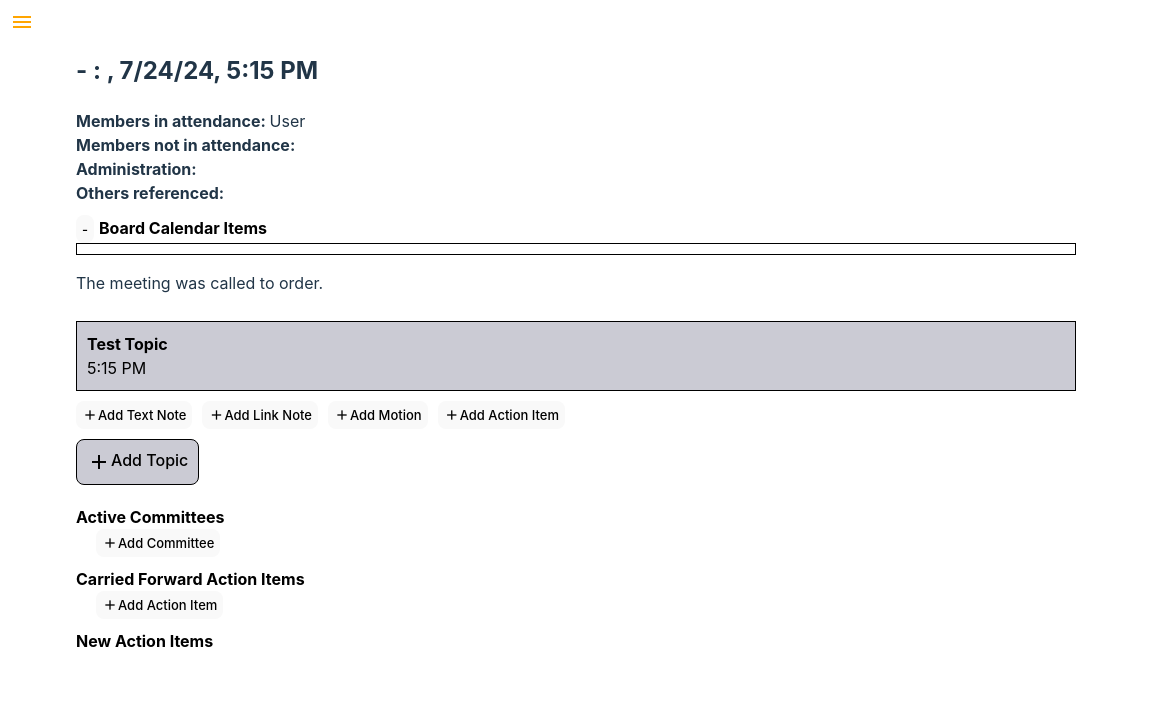
Test: action items › allows cancelling the new action item
The width and height of the screenshot is (1152, 720).
Click the 1st button "Add Action Item".
click(501, 415)  # box [438,401,565,429]
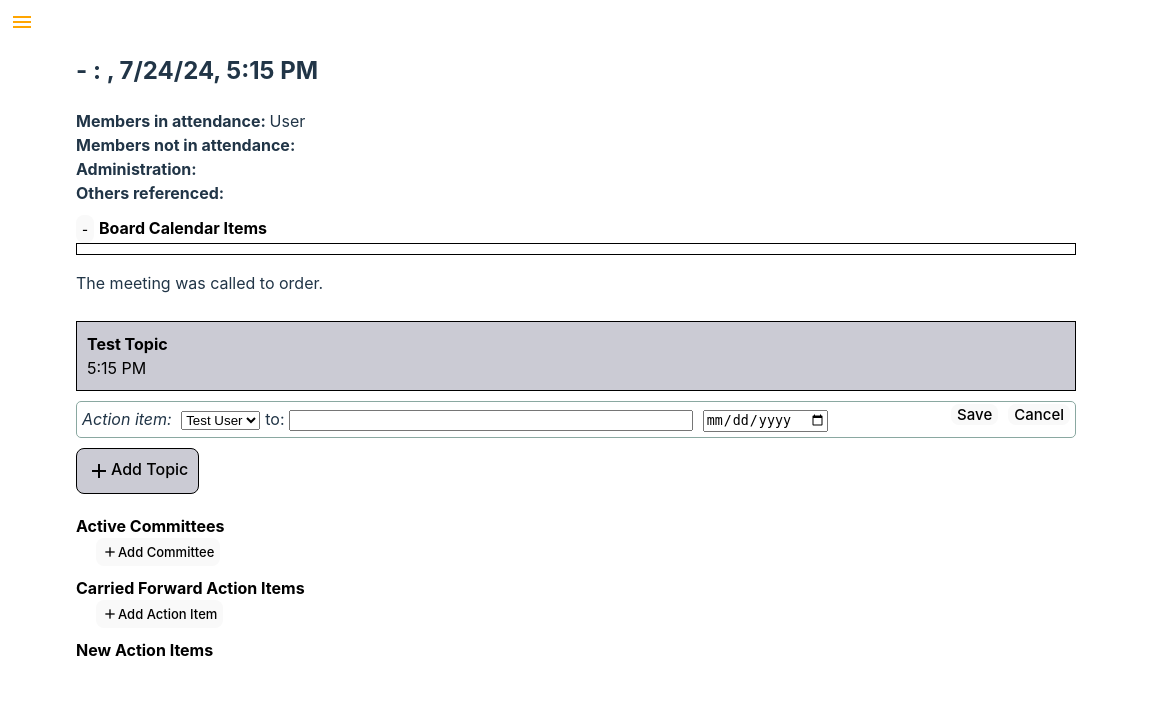
Type "New Action Item" into the field named "Action item text".
click(491, 421); type("New Action Item")  # box [290,410,693,431]
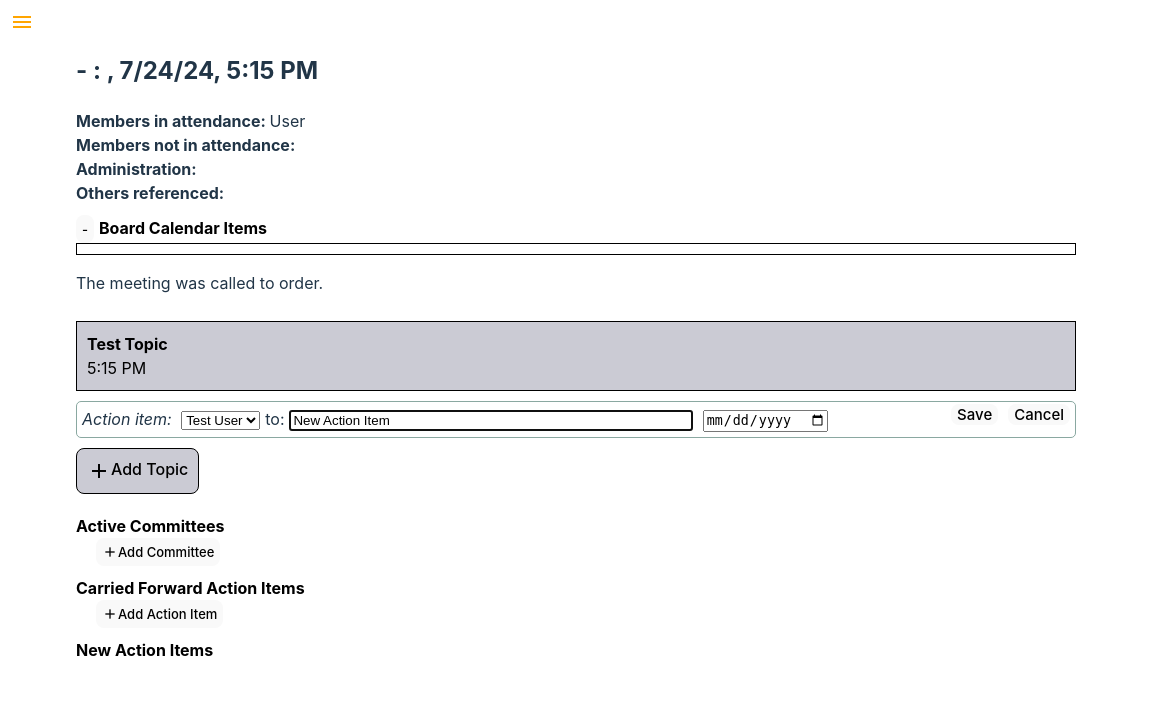
Type "2022-01-01" into the date field named "Action item due date".
click(765, 421); type("2022-01-01")  # box [703,410,828,432]
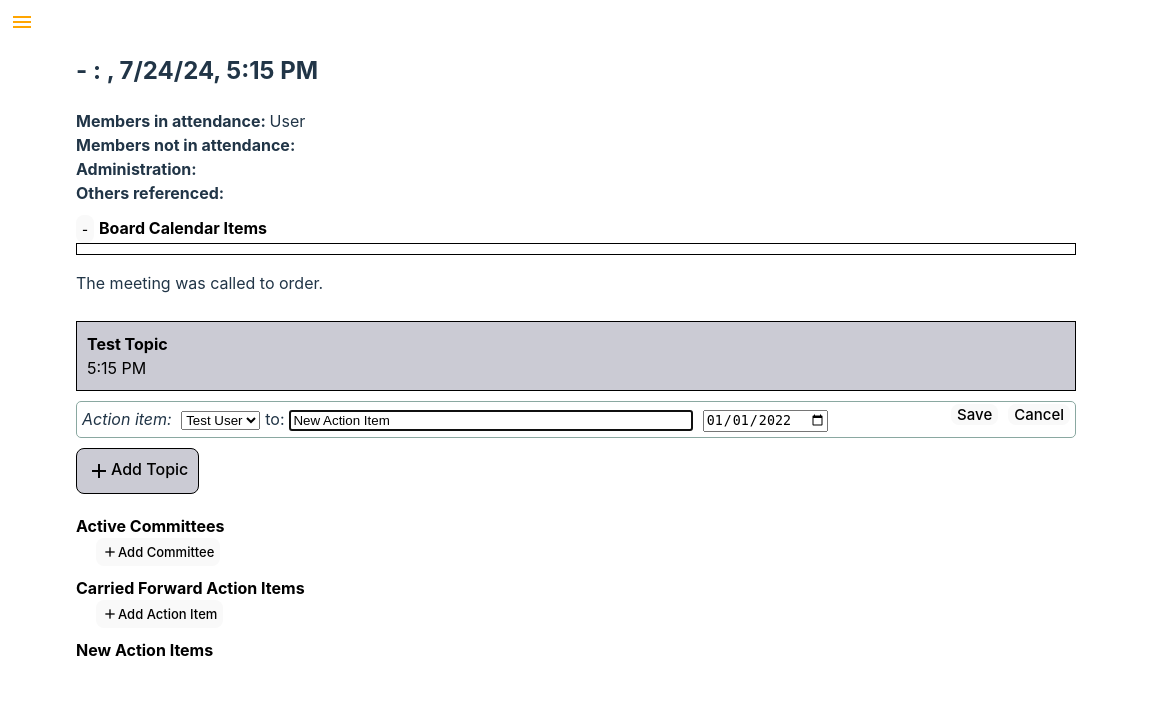
Click the button "Cancel".
click(1039, 415)  # box [1008,404,1070,425]
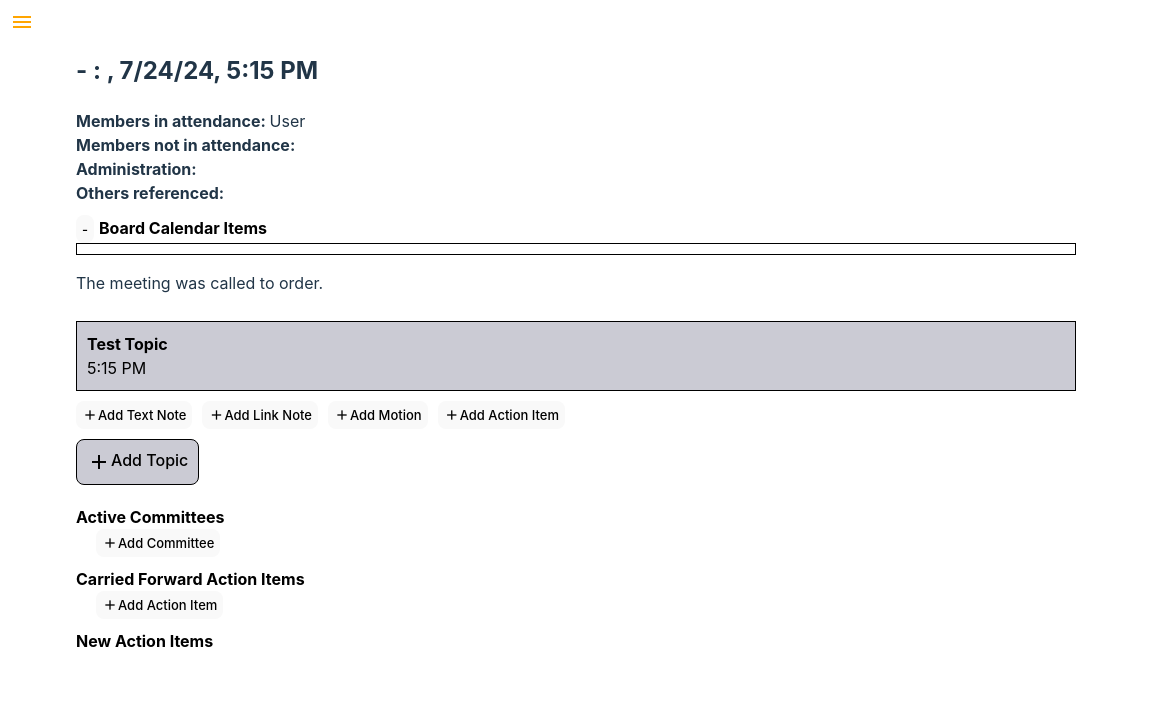
Result: the 1st button "Add Action Item" is shown at [438,401,565,429]
Result: the text "Action item:" is gone
